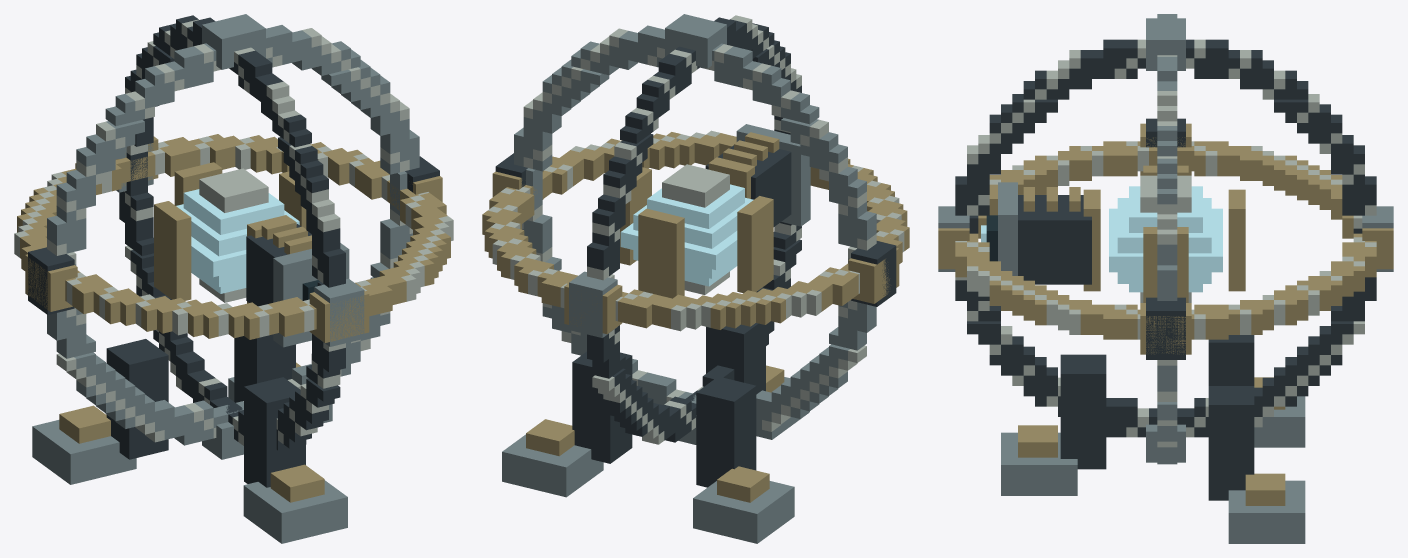
Rendered from observatory_sentinel.glb.
The picture shows the model from 3 angles, left to right: view 1: azimuth 30°, elevation 25°; view 2: azimuth 150°, elevation 25°; view 3: azimuth 270°, elevation 25°; orthographic projection. The views are drawn at different scales.
Visible parts, largest first — view 1: observatory_sentinel/ring_front, observatory_sentinel/ring_equator, observatory_sentinel/ring_side, observatory_sentinel/core, observatory_sentinel/locomotion_2, observatory_sentinel/locomotion_0, observatory_sentinel/projector, observatory_sentinel/locomotion_1; view 2: observatory_sentinel/ring_front, observatory_sentinel/ring_equator, observatory_sentinel/ring_side, observatory_sentinel/core, observatory_sentinel/locomotion_0, observatory_sentinel/locomotion_1, observatory_sentinel/projector, observatory_sentinel/locomotion_2; view 3: observatory_sentinel/ring_side, observatory_sentinel/ring_equator, observatory_sentinel/ring_front, observatory_sentinel/core, observatory_sentinel/locomotion_1, observatory_sentinel/locomotion_2, observatory_sentinel/projector, observatory_sentinel/locomotion_0.
Boxes of the visible parts, box(x1,y1,x2,y2) form: observatory_sentinel/ring_front: box(28, 14, 439, 459); observatory_sentinel/ring_equator: box(14, 134, 453, 342); observatory_sentinel/ring_side: box(116, 15, 364, 450); observatory_sentinel/core: box(154, 162, 306, 303); observatory_sentinel/locomotion_2: box(243, 377, 347, 543); observatory_sentinel/locomotion_0: box(32, 339, 168, 484); observatory_sentinel/projector: box(246, 218, 349, 347); observatory_sentinel/locomotion_1: box(228, 334, 332, 423); observatory_sentinel/ring_front: box(495, 14, 896, 444); observatory_sentinel/ring_equator: box(482, 130, 909, 334); observatory_sentinel/ring_side: box(569, 15, 801, 444); observatory_sentinel/core: box(620, 157, 773, 298); observatory_sentinel/locomotion_0: box(693, 376, 794, 543); observatory_sentinel/locomotion_1: box(502, 351, 632, 497); observatory_sentinel/projector: box(705, 124, 810, 226); observatory_sentinel/locomotion_2: box(706, 323, 808, 439); observatory_sentinel/ring_side: box(938, 39, 1393, 437); observatory_sentinel/ring_equator: box(938, 123, 1393, 354); observatory_sentinel/ring_front: box(1146, 14, 1185, 464); observatory_sentinel/core: box(1083, 165, 1245, 302); observatory_sentinel/locomotion_1: box(1208, 386, 1305, 543); observatory_sentinel/locomotion_2: box(1001, 354, 1106, 495); observatory_sentinel/projector: box(981, 182, 1091, 284); observatory_sentinel/locomotion_0: box(1208, 335, 1305, 447).
Bounding box in the file's own units: 5 × 5.47 × 5.
